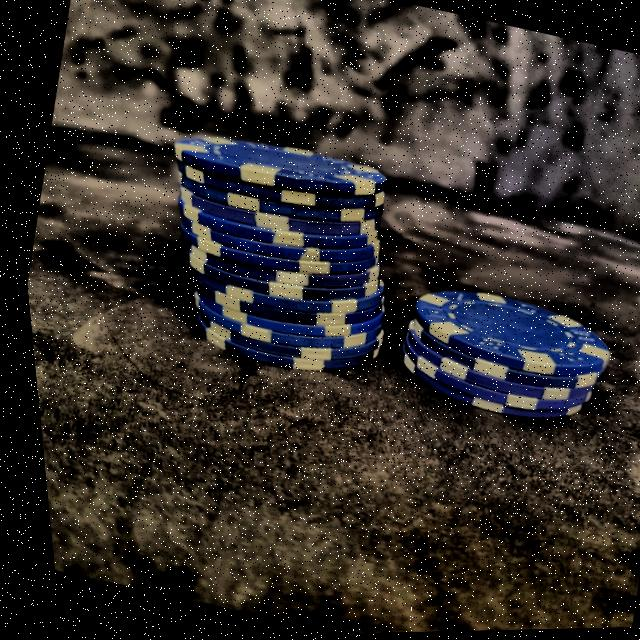Chip: (106, 97, 438, 407), (377, 252, 623, 457)
